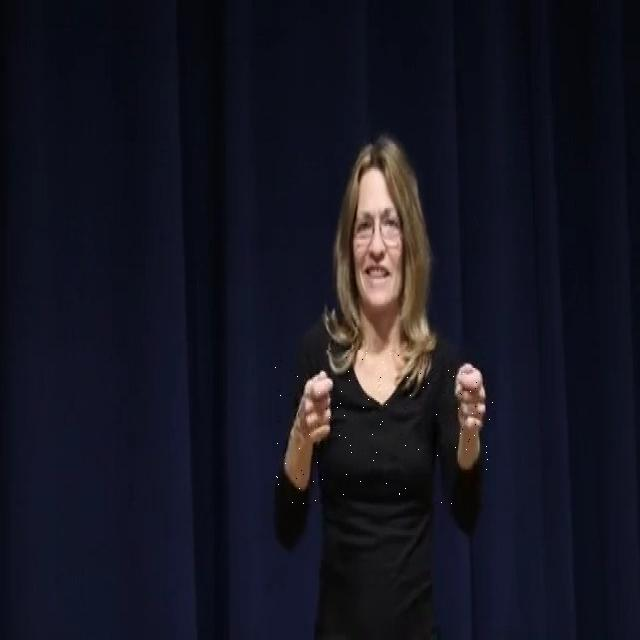manager: (276, 350, 494, 504)
